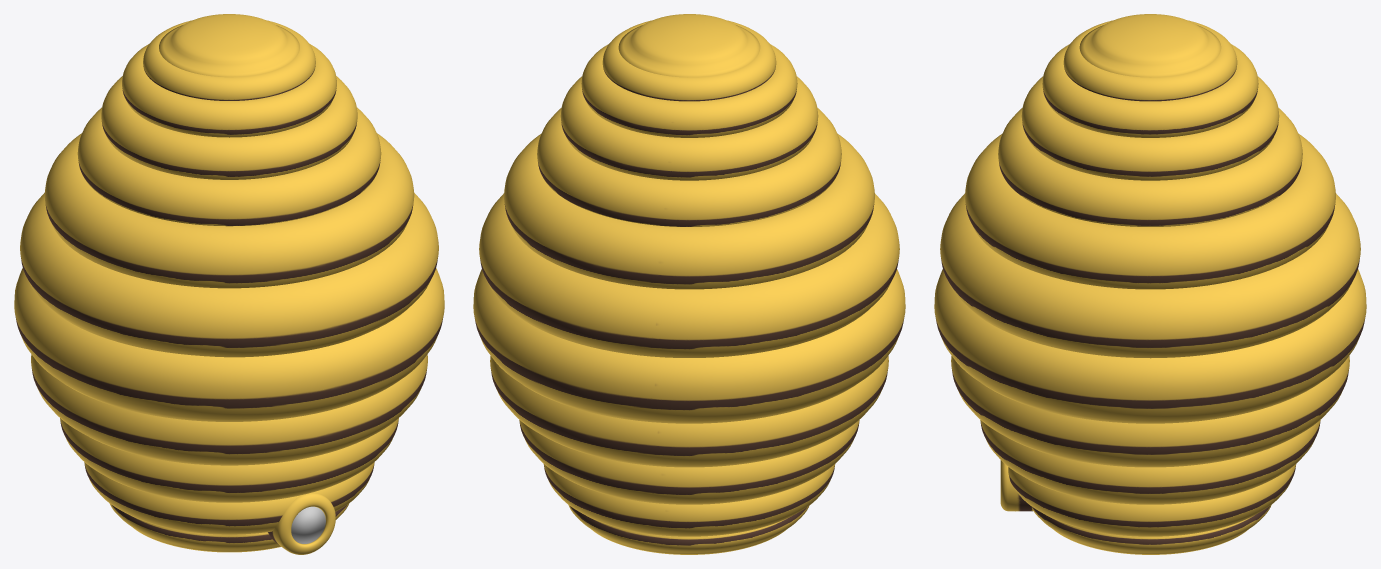
Rendered from beehive.obj.
The picture shows the model from 3 angles, left to right: view 1: azimuth 30°, elevation 25°; view 2: azimuth 150°, elevation 25°; view 3: azimuth 270°, elevation 25°; orthographic projection.
Visible parts, largest first — view 1: Torus.001; view 2: Torus.001; view 3: Torus.001.
Boxes of the visible parts, box(x1,y1,x2,y2) form: Torus.001: box(14, 14, 444, 554); Torus.001: box(473, 14, 905, 554); Torus.001: box(934, 14, 1366, 554).
Size of the model in its own units: 0.4295 by 0.5252 by 0.4295.
